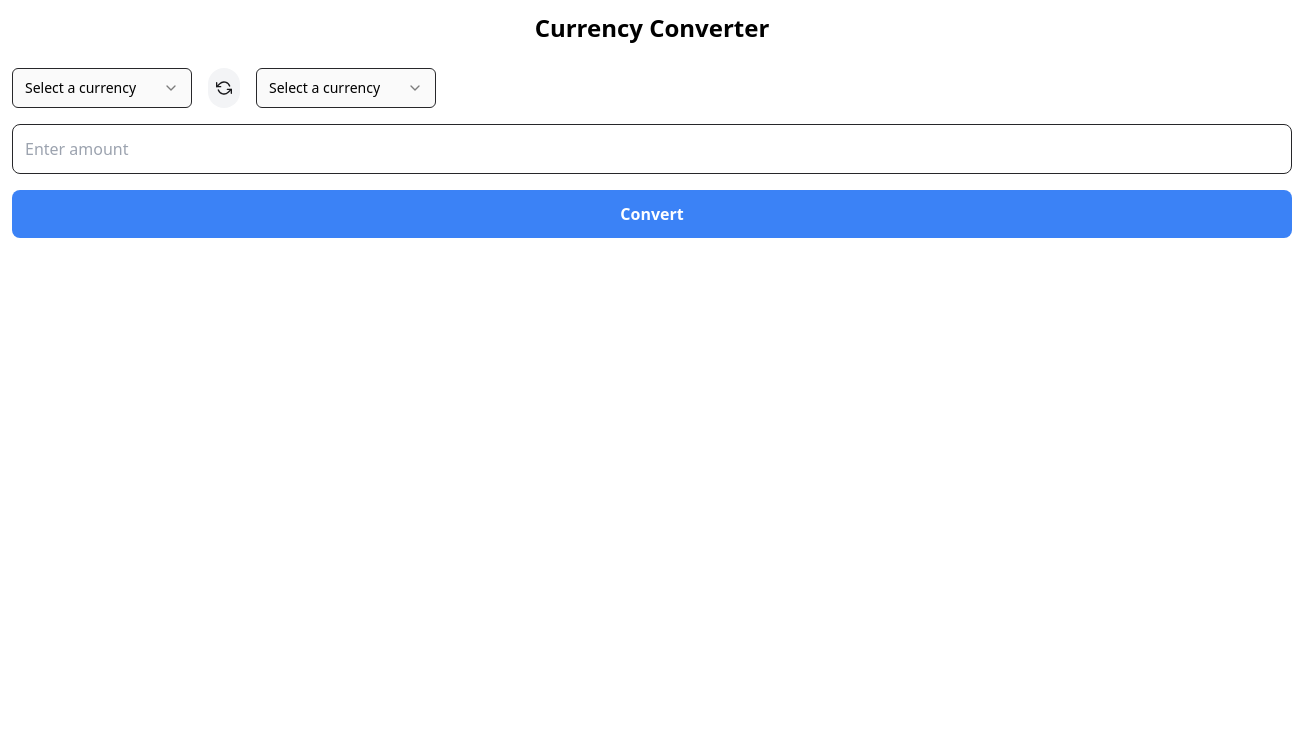
Test case: CurrencyConverter › converts currency successfully
This screenshot has width=1304, height=732.
Note: Open the 'From Currency' dropdown
Click the 1st dropdown labelled "Select a currency" at [102, 88], box left=12, top=68, right=192, bottom=108
(page scrolled)
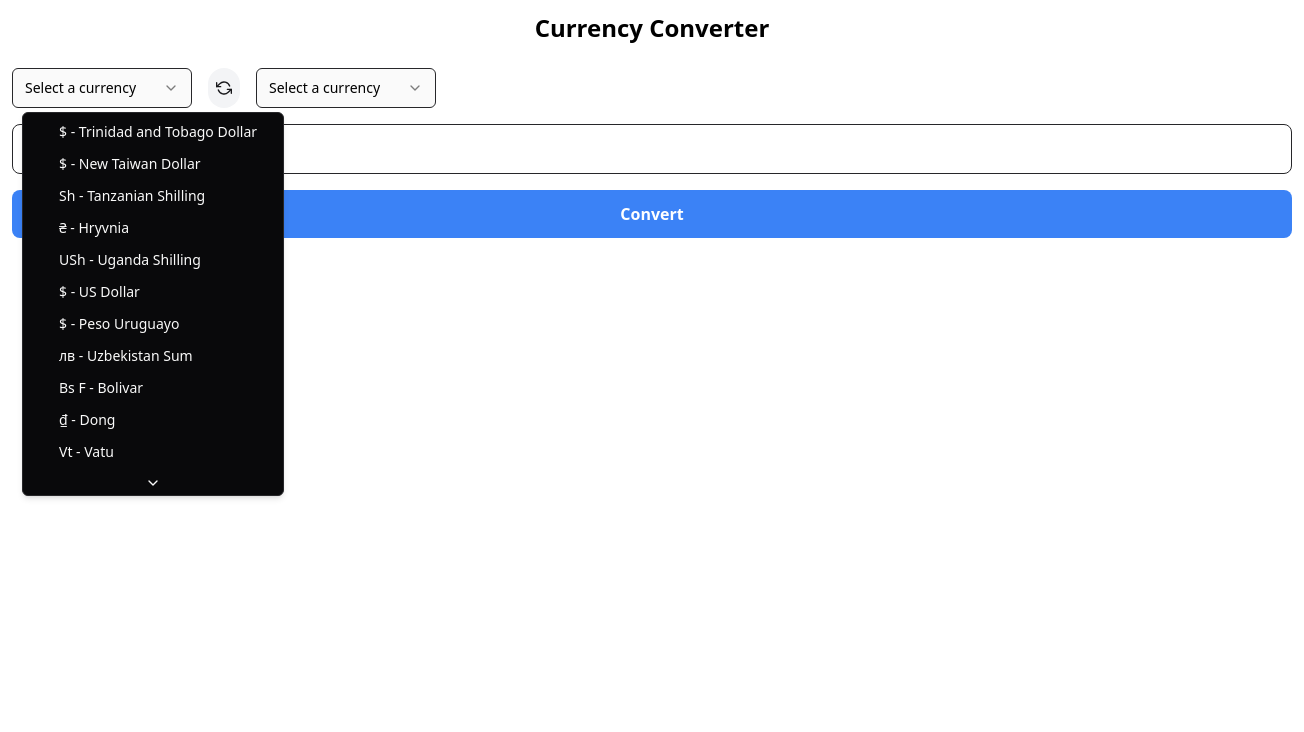
Note: Select 'US Dollar'
Click the text "US Dollar" at [109, 292], box left=79, top=282, right=140, bottom=301
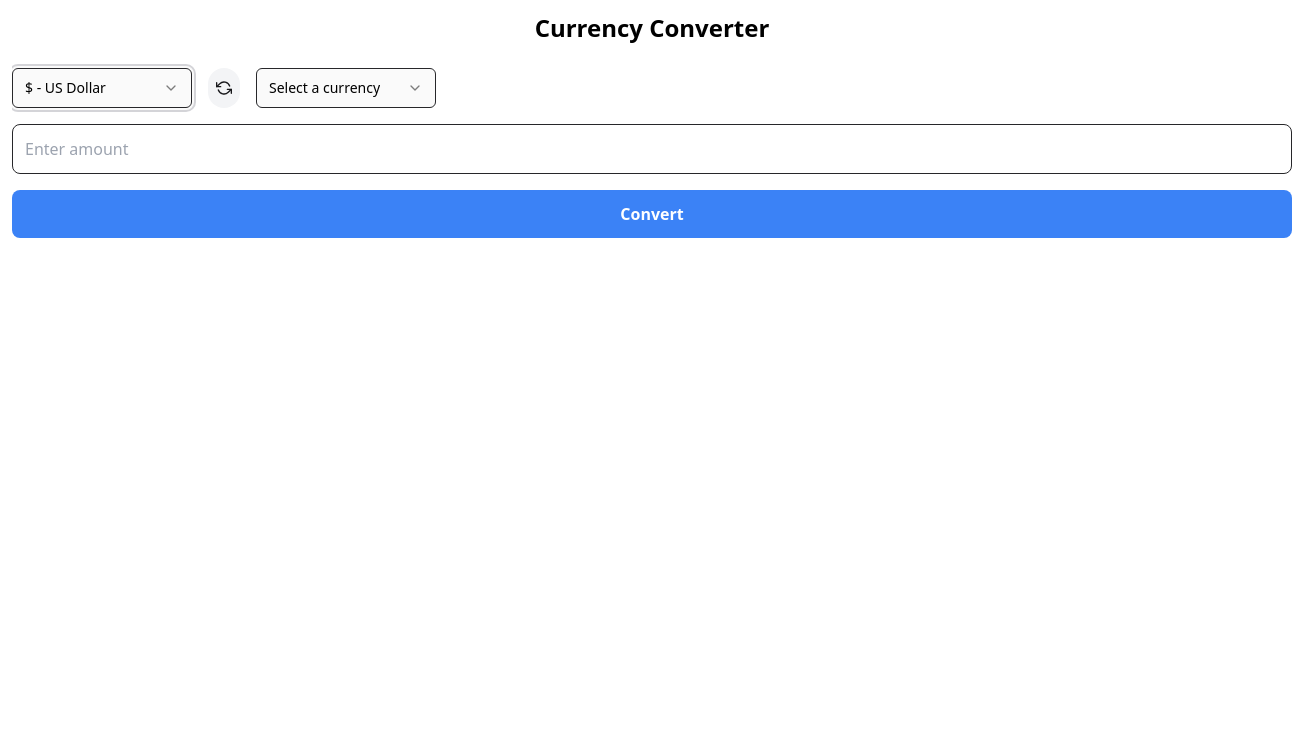
Expected: the dropdown labelled "$ - US Dollar" is shown, left=12, top=68, right=192, bottom=108
Note: Open the 'To Currency' dropdown
Click the dropdown labelled "Select a currency" at [346, 88], box left=256, top=68, right=436, bottom=108
(page scrolled)
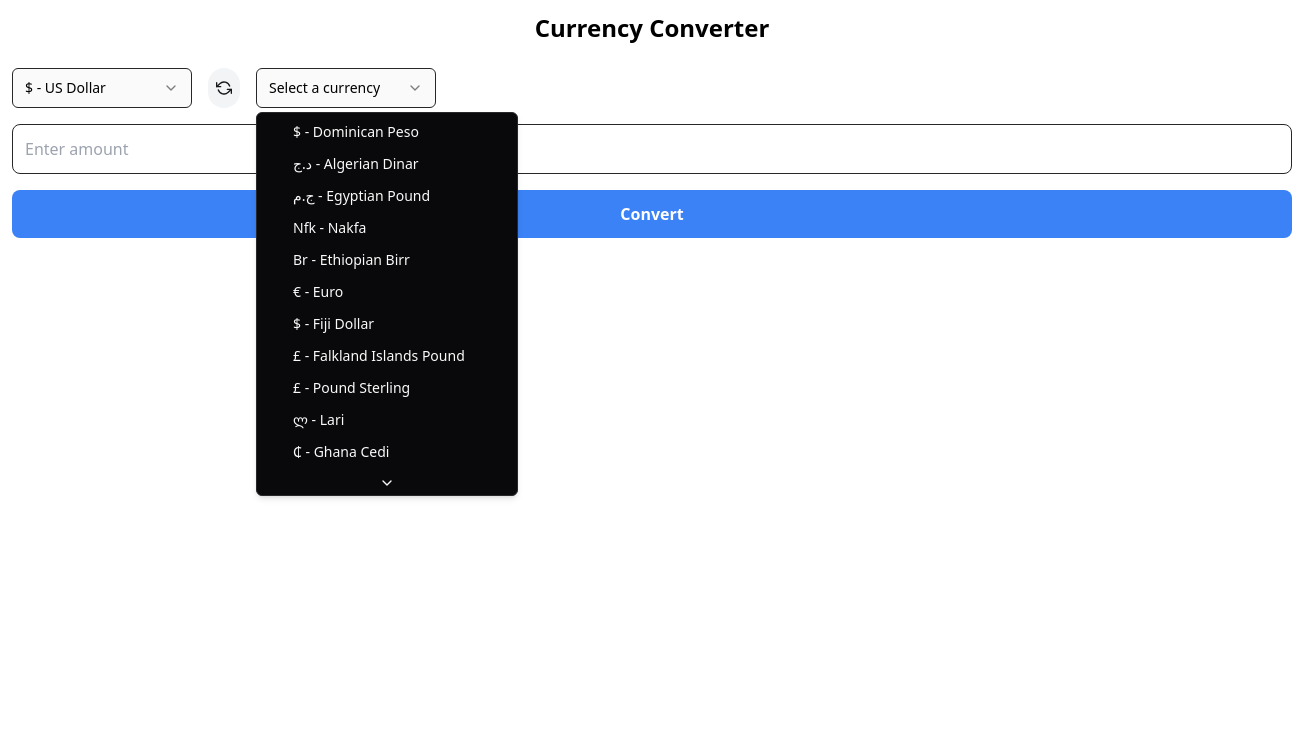
Note: Select 'Euro'
Click the text "Euro" at [328, 292], box left=313, top=282, right=343, bottom=301
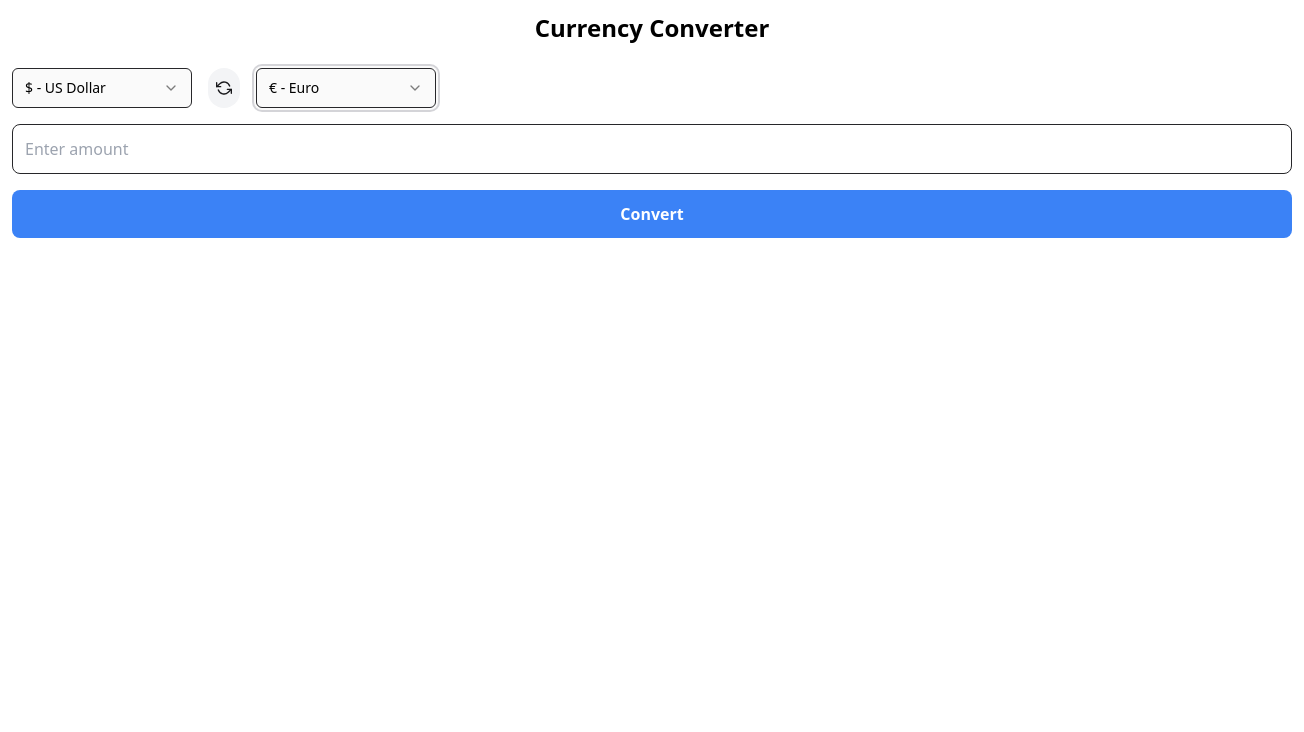
Expected: the dropdown labelled "€ - Euro" is shown, left=256, top=68, right=436, bottom=108
Note: Enter amount
Type "100" into the number field with placeholder "Enter amount" at [652, 149], box left=12, top=124, right=1292, bottom=174
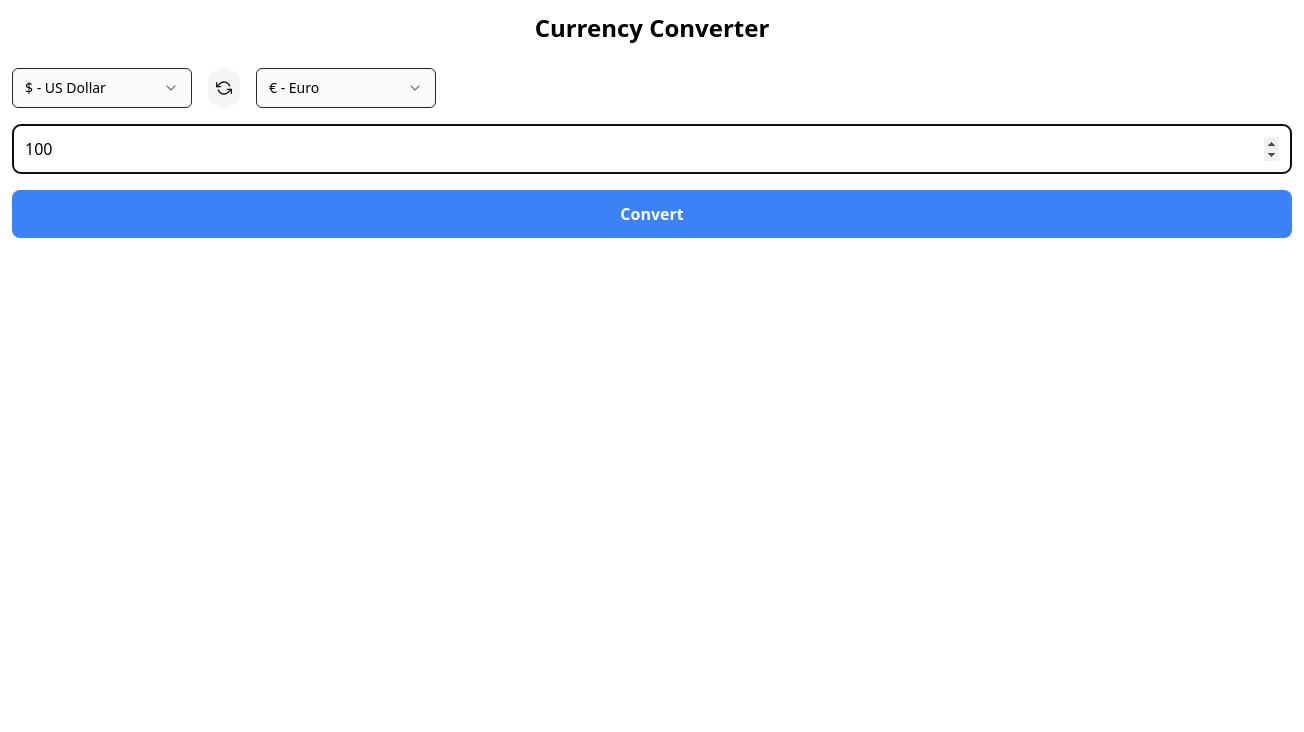
Note: Trigger conversion
Click the button "Convert" at [652, 214], box left=12, top=190, right=1292, bottom=238
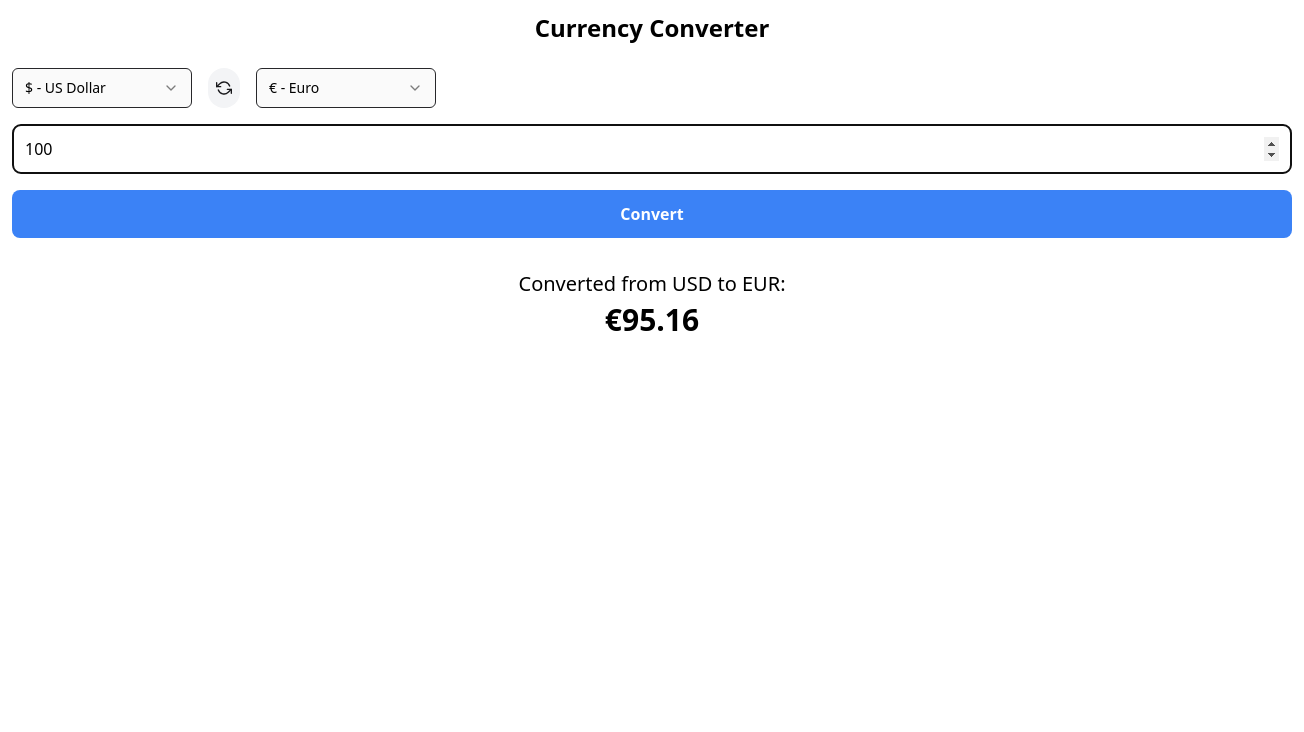
Expected: the heading "Converted from USD to EUR:" is shown, left=518, top=270, right=786, bottom=297
Expected: the text "€95.16" is shown, left=605, top=299, right=699, bottom=340
